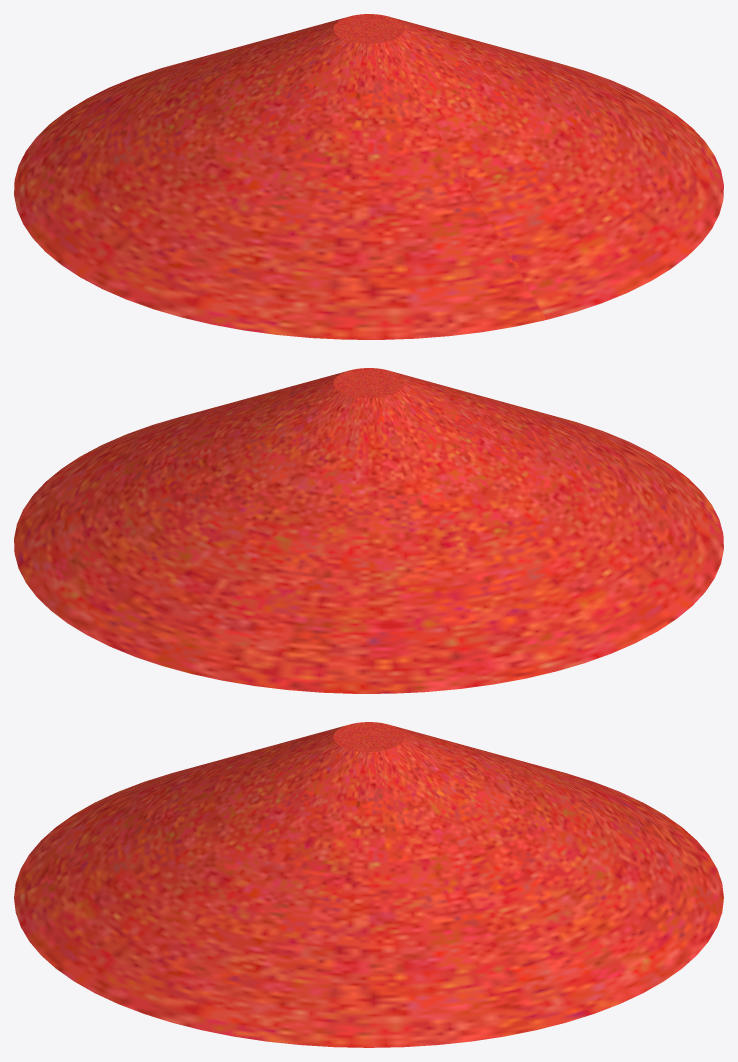
File: ruby_dust.glb
3 renders of one model, top to bottom at view 1: azimuth 30°, elevation 25°; view 2: azimuth 150°, elevation 25°; view 3: azimuth 270°, elevation 25°, orthographic.
Parts seen in each view (by area): view 1: MeshInstance3D; view 2: MeshInstance3D; view 3: MeshInstance3D.
Part boxes in pixels (x1,y1,x2,y2): MeshInstance3D: (14,14,723,339); MeshInstance3D: (14,368,723,693); MeshInstance3D: (14,722,723,1047).
Size of the model in its own units: 0.2 by 0.05 by 0.2.
Materials: 1 (1 with a texture image).
